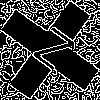Z: (25, 25, 76, 80)
